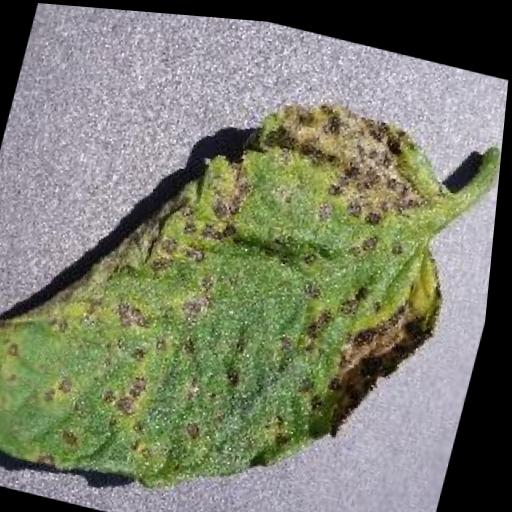Septoria: (0, 30, 490, 512)
